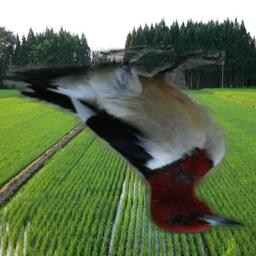Woodpecker: (3, 46, 251, 235)
